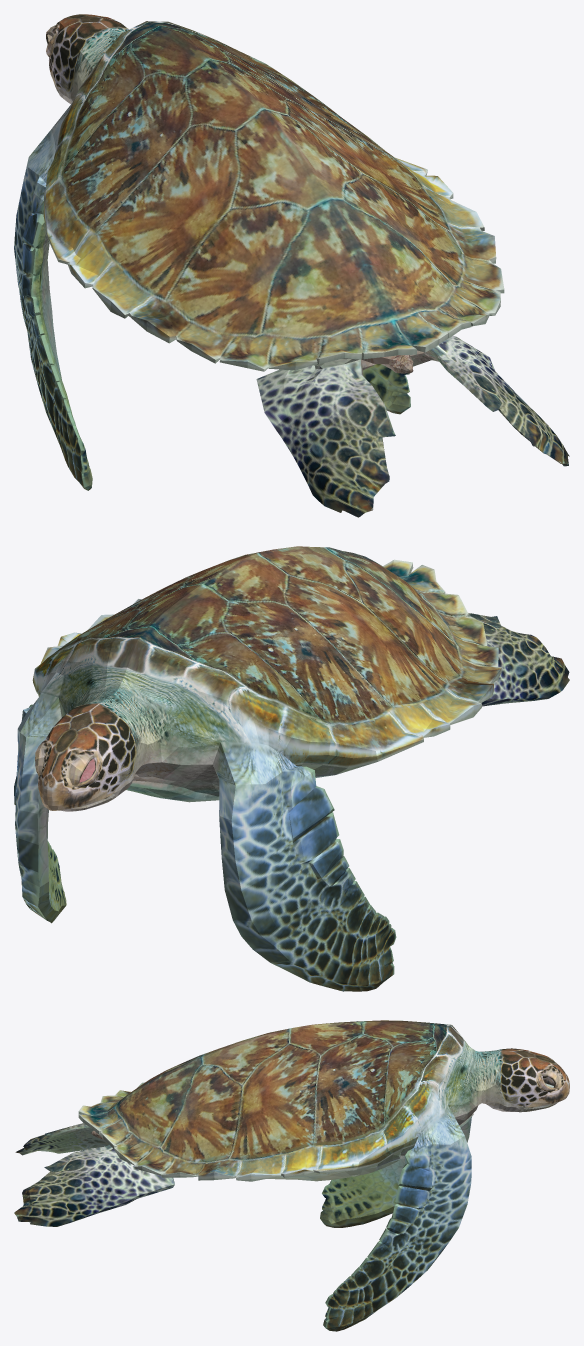
Rendered from frame_15.obj.
3 views of the same model, one above another, from view 1: azimuth 30°, elevation 25°; view 2: azimuth 150°, elevation 25°; view 3: azimuth 270°, elevation 25° (orthographic). The views are drawn at different scales.
Parts seen in each view (by area): view 1: Turtle GEO Turtle; view 2: Turtle GEO Turtle; view 3: Turtle GEO Turtle.
Part boxes in pixels (x1,y1,x2,y2): Turtle GEO Turtle: [14, 14, 569, 517]; Turtle GEO Turtle: [14, 546, 569, 991]; Turtle GEO Turtle: [14, 1020, 569, 1331].
Size of the model in its own units: 51.12 by 50.17 by 98.56.
Materials: 1 (1 with a texture image).
